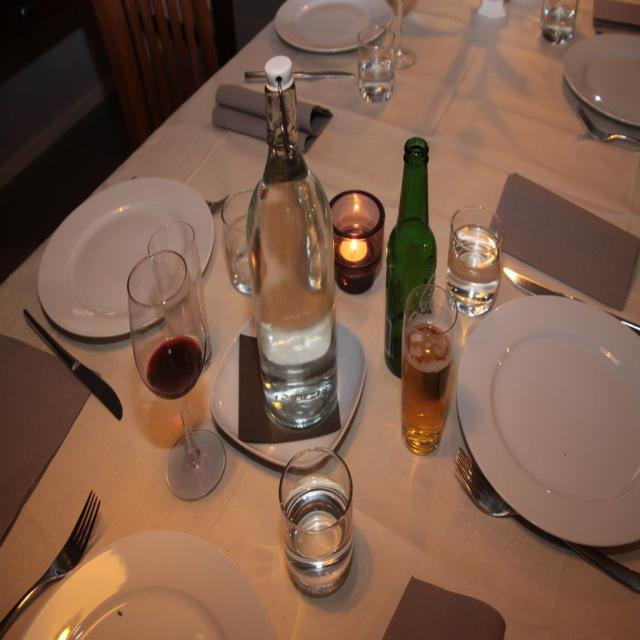ceramic plate: (470, 281, 640, 517), (16, 157, 228, 345), (282, 0, 407, 73)
